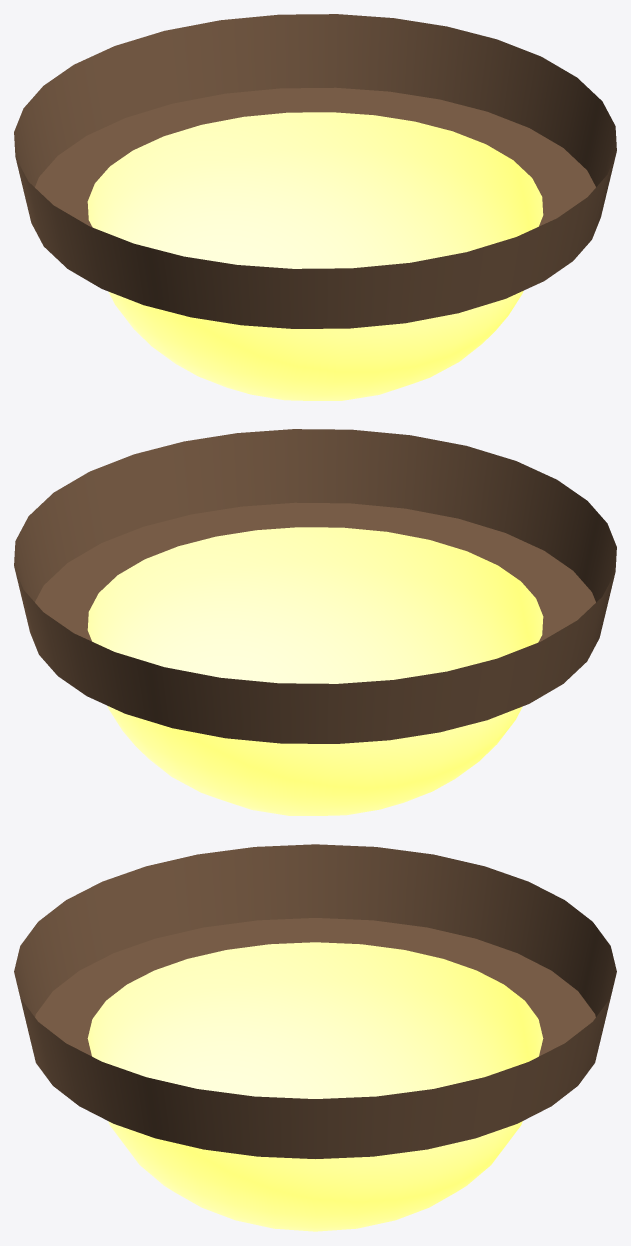
The model's file is lampa.fbx.
The picture shows the model from 3 angles, top to bottom: view 1: azimuth 30°, elevation 25°; view 2: azimuth 150°, elevation 25°; view 3: azimuth 270°, elevation 25°; orthographic projection.
Parts seen in each view (by area): view 1: lampa; view 2: lampa; view 3: lampa.
Part boxes in pixels (x1,y1,x2,y2): lampa: [14, 14, 616, 400]; lampa: [14, 429, 616, 815]; lampa: [14, 844, 616, 1231].
Bounding box in the file's own units: 227 × 95.24 × 227.
